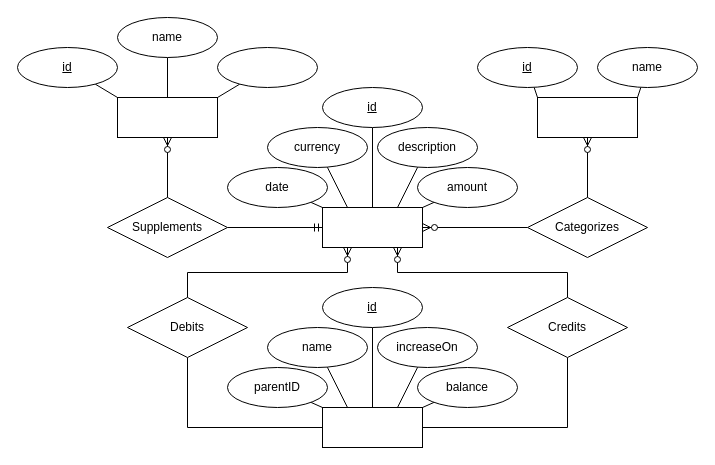
Some shapes in this 715 by 465 pixel diagram are drawn without their labels. The shapes that lost their labels are listed below. From the top down, each one's centre as x and y in pixels, then its label:
(x=267, y=67): data
(x=167, y=117): Attachment
(x=587, y=117): Tag
(x=372, y=227): Transaction
(x=372, y=427): Account
